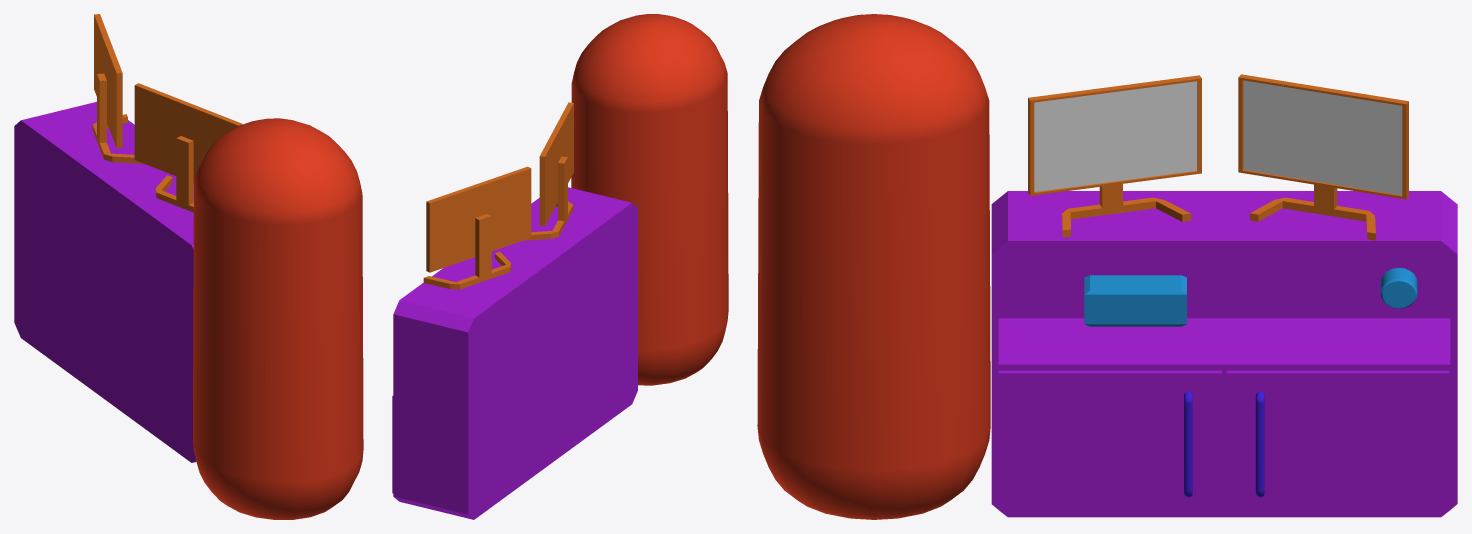
The model's file is Machine_FBX.fbx.
3 renders of one model, left to right at view 1: azimuth 30°, elevation 25°; view 2: azimuth 150°, elevation 25°; view 3: azimuth 270°, elevation 25°, orthographic. The views are drawn at different scales.
Visible parts, largest first — view 1: polySurface14; view 2: polySurface14; view 3: polySurface14, polySurface1, polySurface4.
Part boxes in pixels (x1,y1,x2,y2): polySurface14: [14, 14, 363, 519]; polySurface14: [392, 14, 728, 519]; polySurface14: [757, 14, 1457, 519]; polySurface1: [1034, 81, 1197, 191]; polySurface4: [1243, 80, 1402, 195].
Size of the model in its own units: 2.5 by 6.14 by 8.3.
